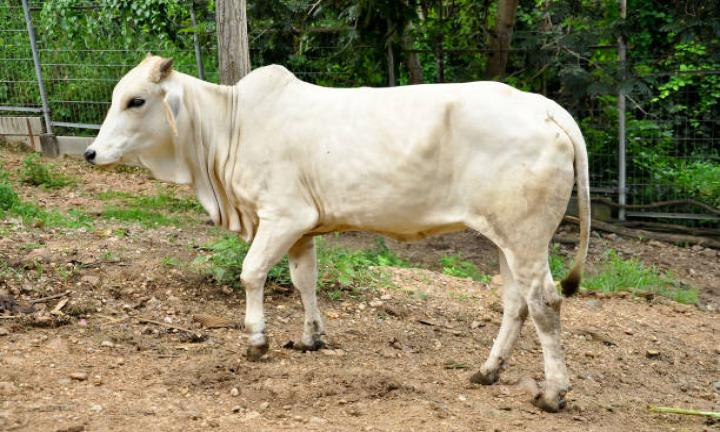Brahman: (84, 56, 589, 411)
